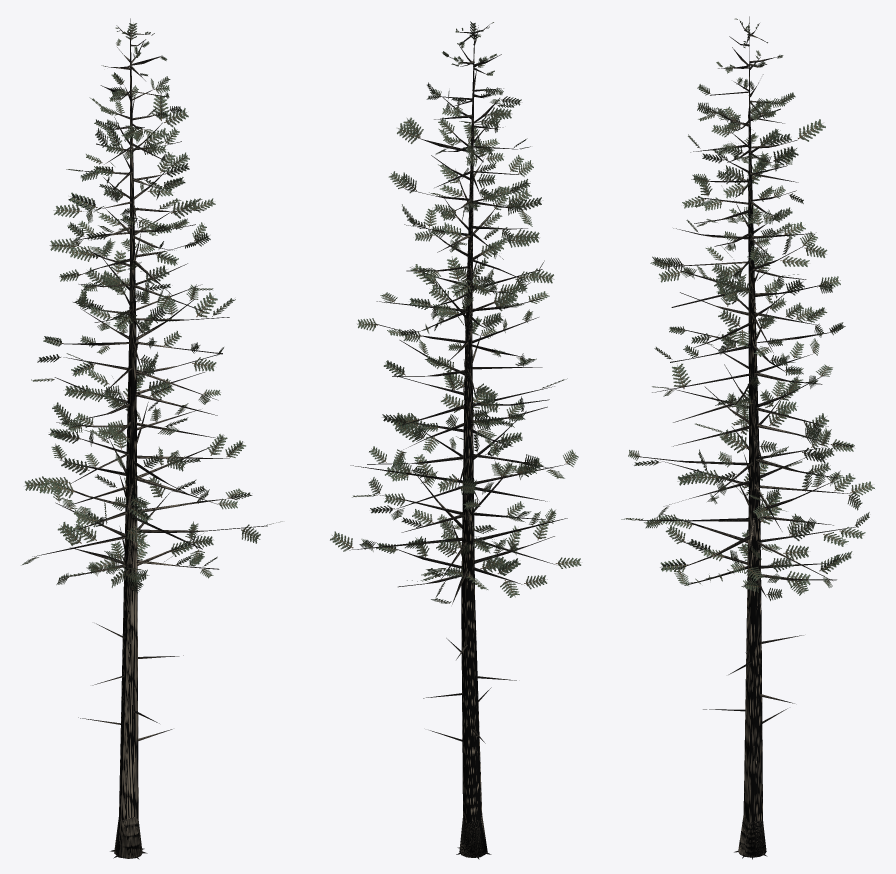
The model's file is Sitka_OldLarge_01_Unpruned_LOD2.fbx.
The picture shows the model from 3 angles, left to right: view 1: azimuth 30°, elevation 25°; view 2: azimuth 150°, elevation 25°; view 3: azimuth 270°, elevation 25°; orthographic projection.
Parts seen in each view (by area): view 1: Sitka_OldLarge_01_Unpruned_LOD2; view 2: Sitka_OldLarge_01_Unpruned_LOD2; view 3: Sitka_OldLarge_01_Unpruned_LOD2.
Part boxes in pixels (x1,y1,x2,y2): Sitka_OldLarge_01_Unpruned_LOD2: (21, 18, 282, 859); Sitka_OldLarge_01_Unpruned_LOD2: (330, 21, 581, 859); Sitka_OldLarge_01_Unpruned_LOD2: (621, 16, 874, 859).
Bounding box in the file's own units: 963 × 3200 × 927.
2 materials, 2 textured.
